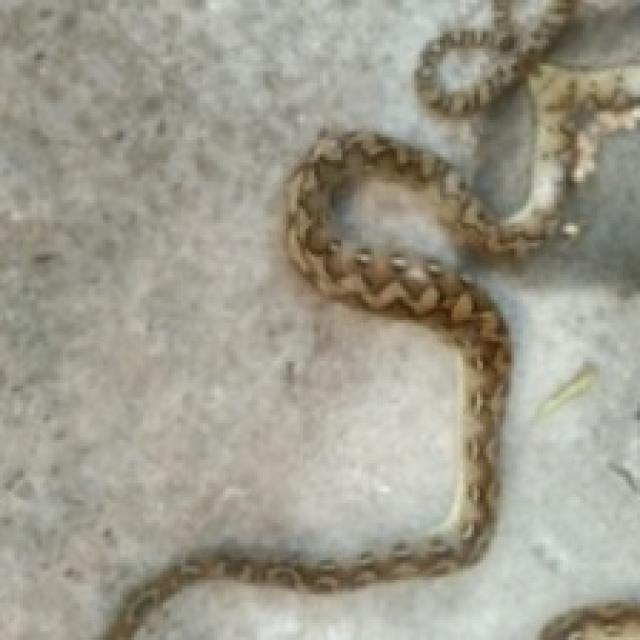reticulated python: (103, 0, 637, 637)
